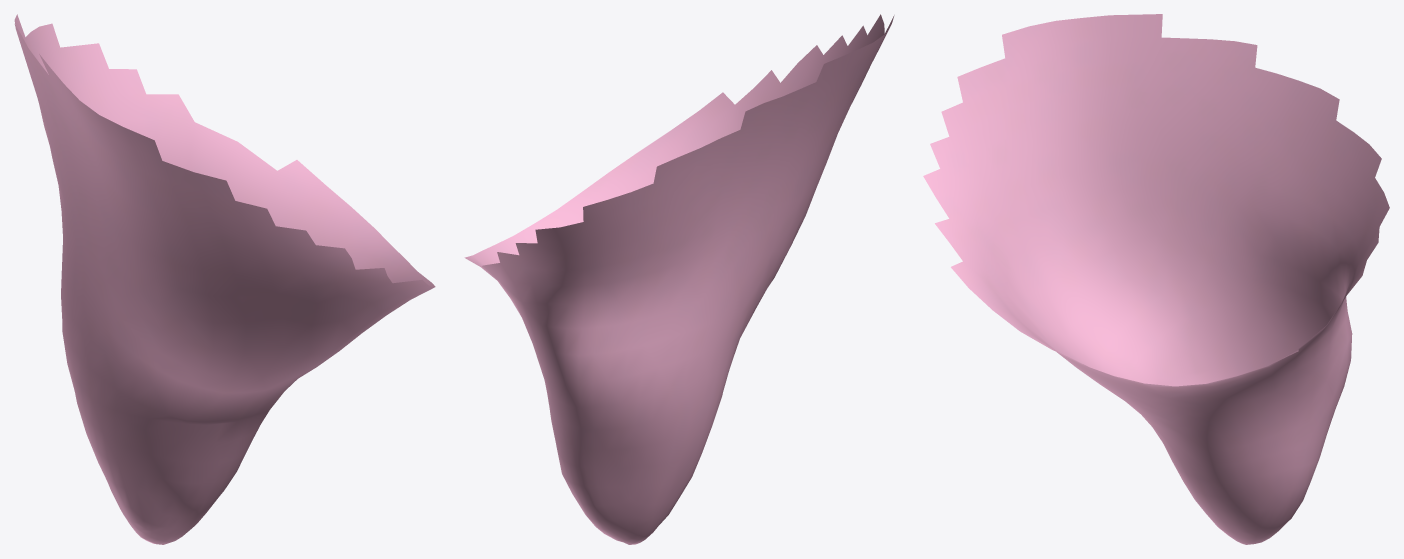
The model's file is Pato PTI.obj.
3 renders of one model, left to right at view 1: azimuth 30°, elevation 25°; view 2: azimuth 150°, elevation 25°; view 3: azimuth 270°, elevation 25°, orthographic. The views are drawn at different scales.
Visible parts, largest first — view 1: Pata_trasera_Izq; view 2: Pata_trasera_Izq; view 3: Pata_trasera_Izq.
Part boxes in pixels (x1=…): Pata_trasera_Izq: x1=14, y1=14, x2=435, y2=544; Pata_trasera_Izq: x1=464, y1=14, x2=894, y2=544; Pata_trasera_Izq: x1=923, y1=14, x2=1389, y2=544.
Bounding box in the file's own units: 0.0302 × 0.0445 × 0.0409.
